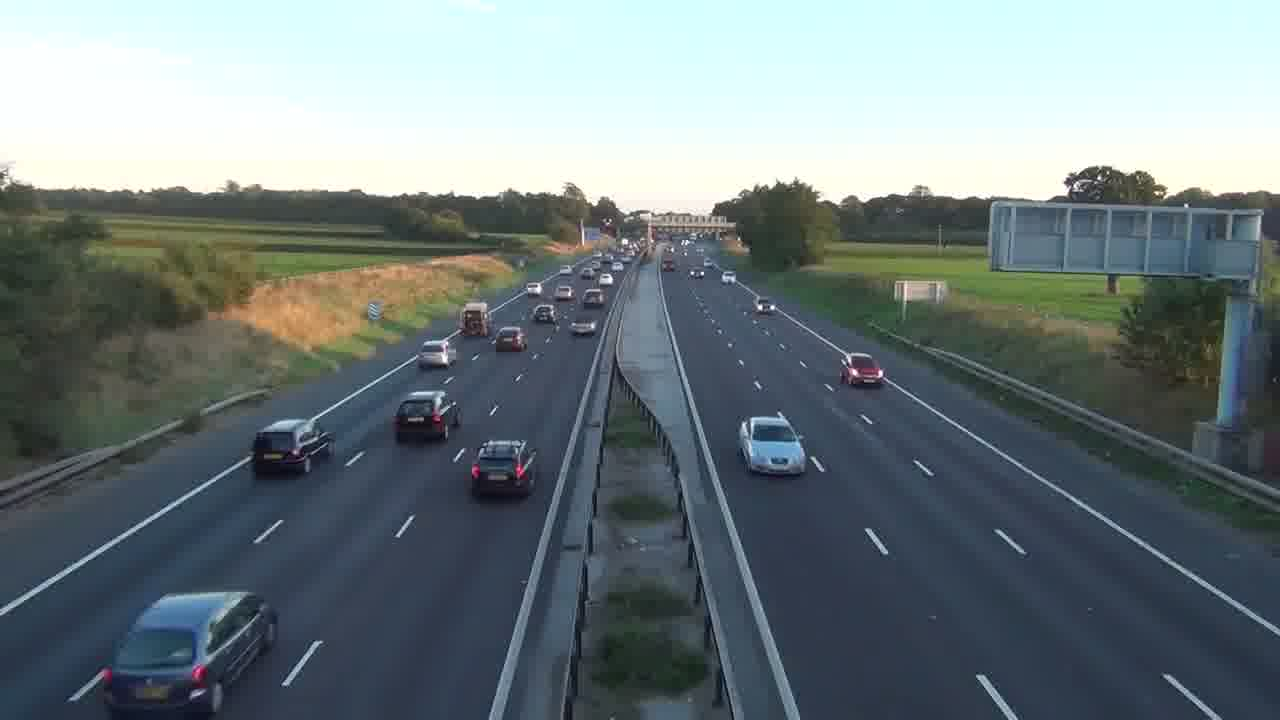car: (99, 590, 279, 716), (737, 413, 807, 477), (468, 439, 538, 499), (393, 390, 458, 442), (838, 351, 885, 388), (417, 340, 453, 367)
truck: (99, 590, 279, 716), (251, 417, 336, 477), (459, 300, 489, 337)
